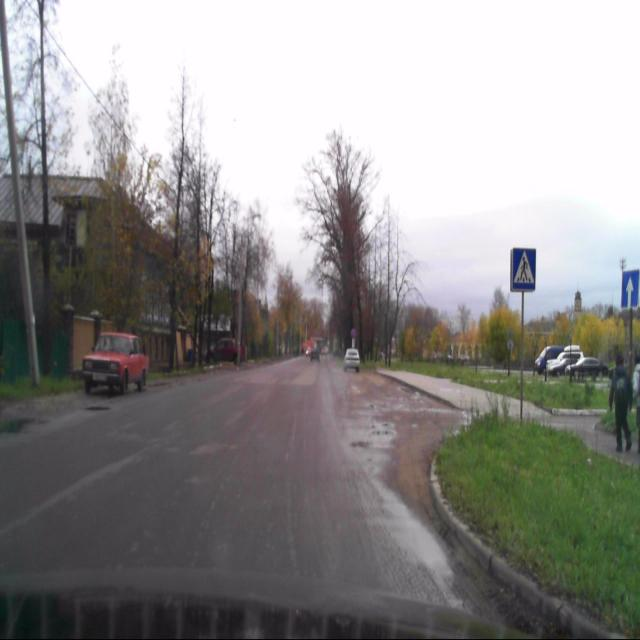road sign: (512, 250, 536, 292), (622, 270, 638, 312)
